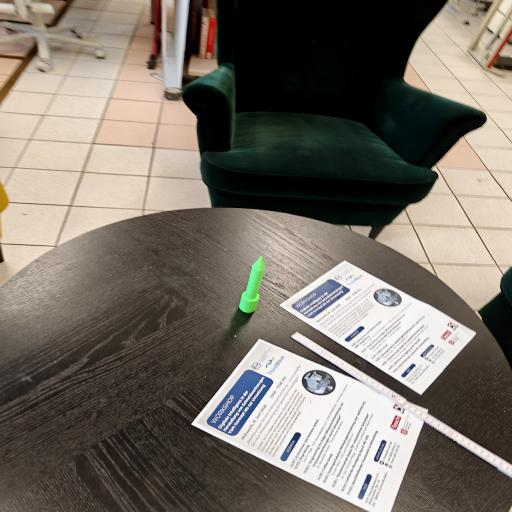Probe-Detection: (238, 256, 264, 313)
